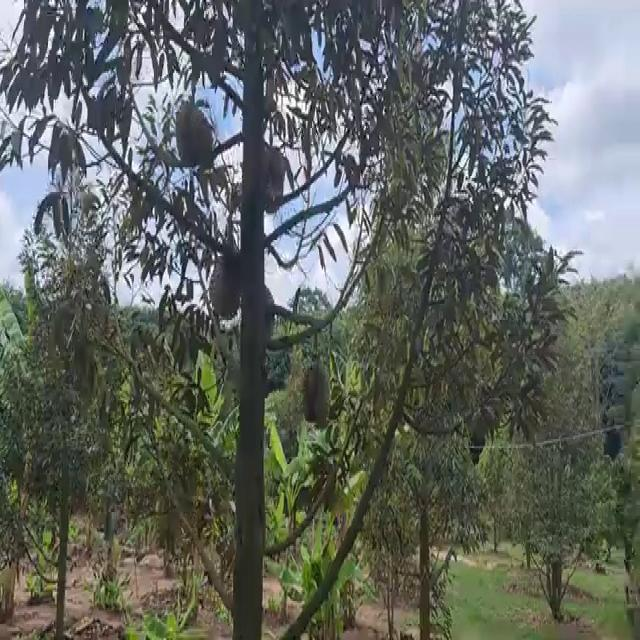durian: (208, 248, 244, 324), (299, 357, 334, 433), (239, 276, 277, 344)
